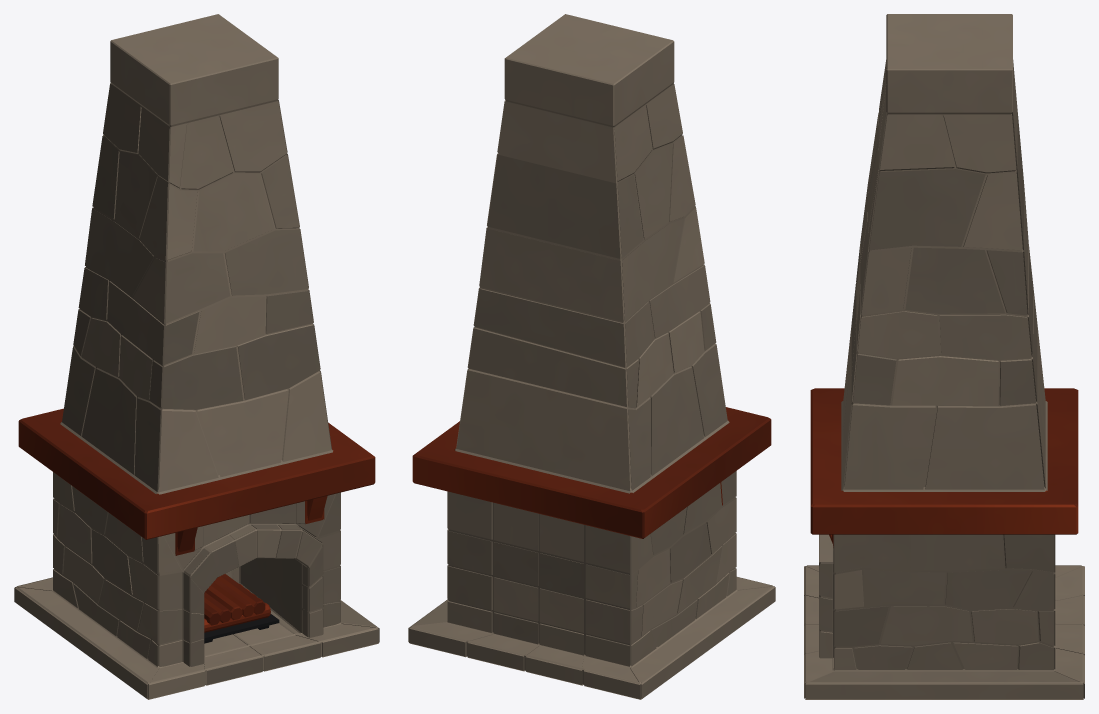
The model's file is FirePlace_MaterialFix_v2.fbx.
The picture shows the model from 3 angles, left to right: view 1: azimuth 30°, elevation 25°; view 2: azimuth 150°, elevation 25°; view 3: azimuth 270°, elevation 25°; orthographic projection. The views are drawn at different scales.
Parts seen in each view (by area): view 1: FirePlace, FuelWood, shelf; view 2: FirePlace; view 3: FirePlace.
Boxes of the visible parts, x1,y1,x2,y2 form: FirePlace: (14,14,379,699); FuelWood: (204,574,270,632); shelf: (204,614,279,643); FirePlace: (408,14,775,699); FirePlace: (804,14,1084,699).
Bounding box in the file's own units: 2 × 4.71 × 2.
